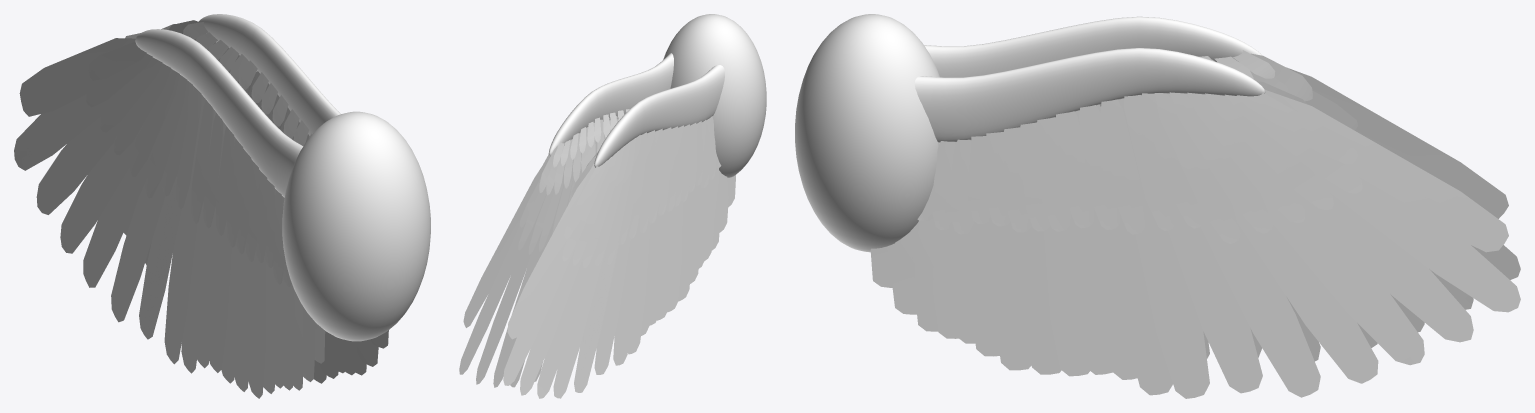
Rendered from asset.glb.
3 views of the same model, side by side, from view 1: azimuth 30°, elevation 25°; view 2: azimuth 150°, elevation 25°; view 3: azimuth 270°, elevation 25° (orthographic). The views are drawn at different scales.
Visible parts, largest first — view 1: mesh_id387, node_id381, mesh_id384, mesh_id388, mesh_id385; view 2: mesh_id387, mesh_id384, node_id381, mesh_id388, mesh_id385; view 3: mesh_id384, node_id381, mesh_id387, mesh_id385, mesh_id388.
Boxes of the visible parts, <box> form: mesh_id387: <box>16,29,325,394</box>; node_id381: <box>282,111,430,341</box>; mesh_id384: <box>127,14,388,378</box>; mesh_id388: <box>14,84,323,398</box>; mesh_id385: <box>123,224,387,383</box>; mesh_id387: <box>504,65,735,391</box>; mesh_id384: <box>461,53,673,379</box>; node_id381: <box>663,14,766,177</box>; mesh_id388: <box>503,198,734,398</box>; mesh_id385: <box>459,313,539,387</box>; mesh_id384: <box>870,48,1516,390</box>; node_id381: <box>795,14,939,252</box>; mesh_id387: <box>924,16,1516,354</box>; mesh_id385: <box>873,225,1520,398</box>; mesh_id388: <box>1206,195,1520,361</box>.
Bounding box in the file's own units: 0.1233 × 0.3217 × 0.5804.
Materials: 5 (5 with a texture image).
